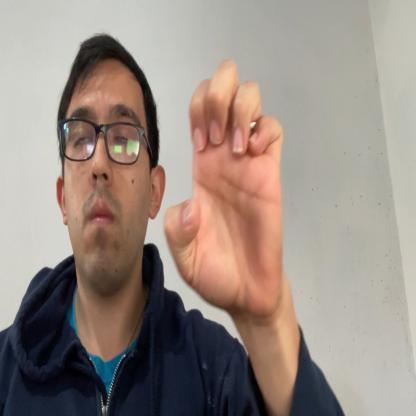E: (162, 58, 284, 319)
